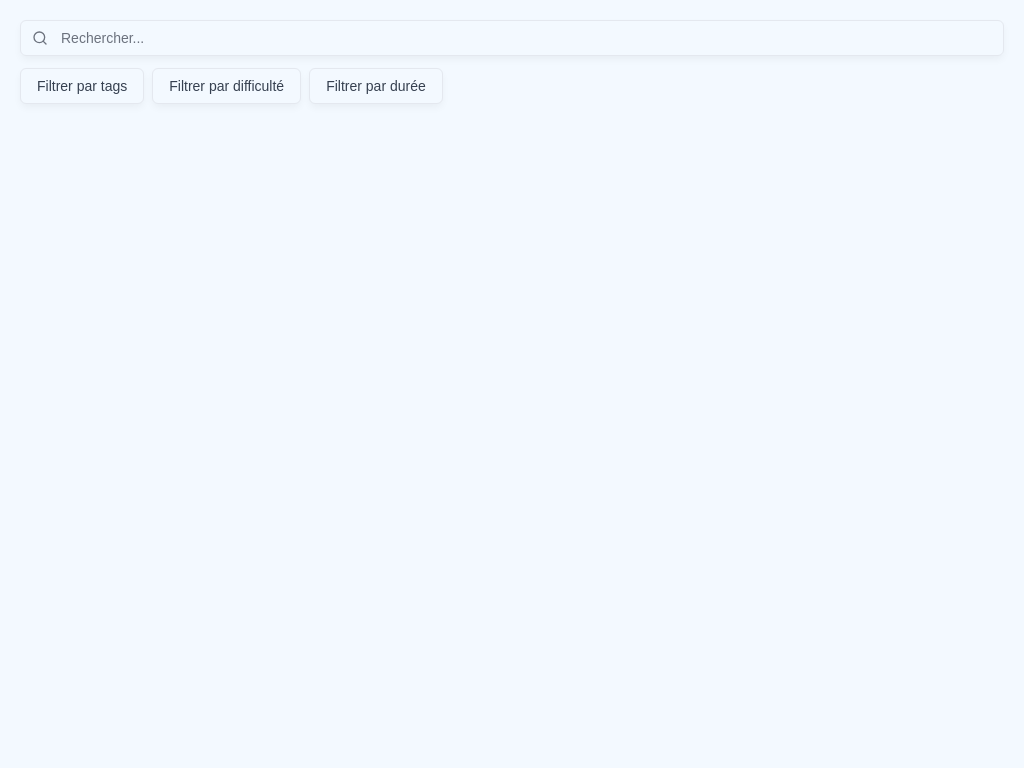
Scenario: Filter bar component tests › renders the difficulty button
Click the button with test id "difficulty-button": click(227, 86) [152, 68, 301, 104]
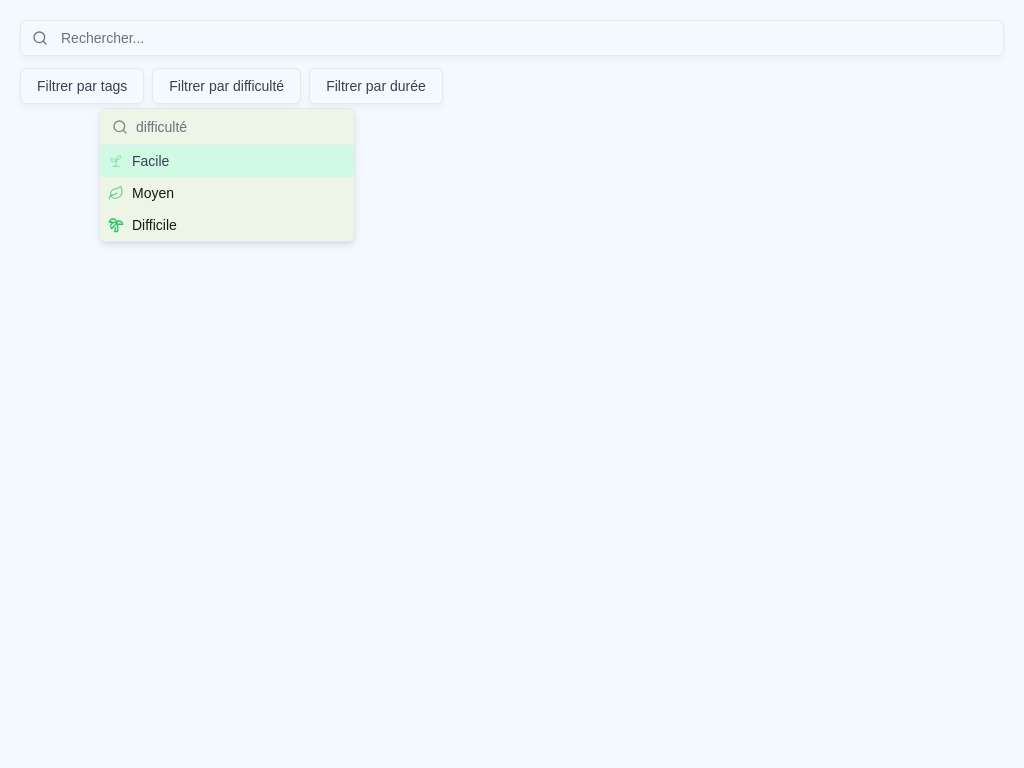
Now the option "Facile" is shown
Click the option "Facile": click(227, 161) [100, 145, 354, 177]
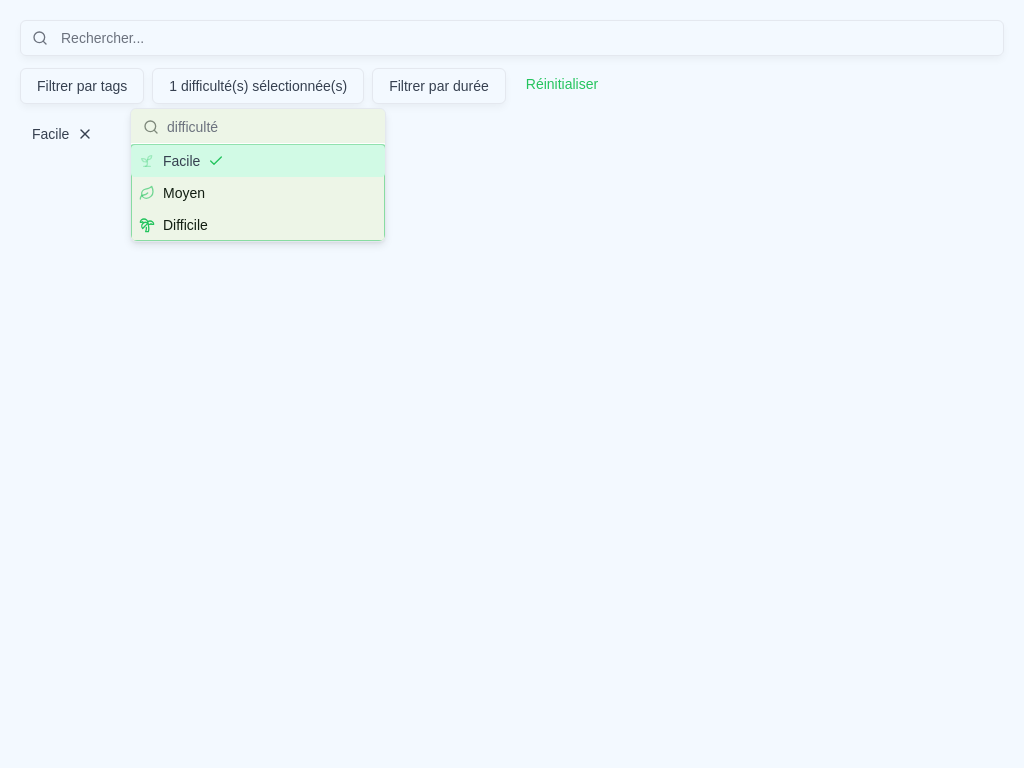
Now the button with test id "difficulty-button" reads "1 difficulté(s) sélectionnée(s)", box [152, 68, 364, 104]
Now the element with test id "filter-item-buttons" is shown, box [20, 116, 105, 152]
Now the button with test id "reset-filter-button" is shown
Click the button with test id "reset-filter-button": click(562, 84) [514, 68, 610, 100]
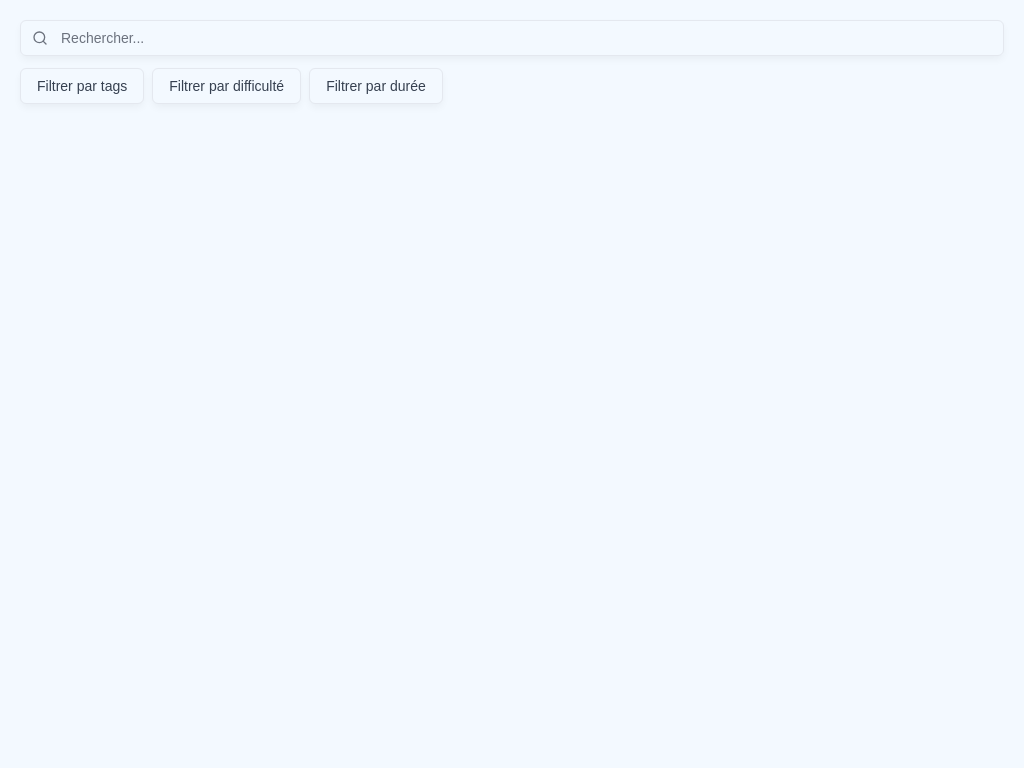
Now the button with test id "difficulty-button" reads "Filtrer par difficulté", box [152, 68, 301, 104]
Now the button with test id "reset-filter-button" is gone
